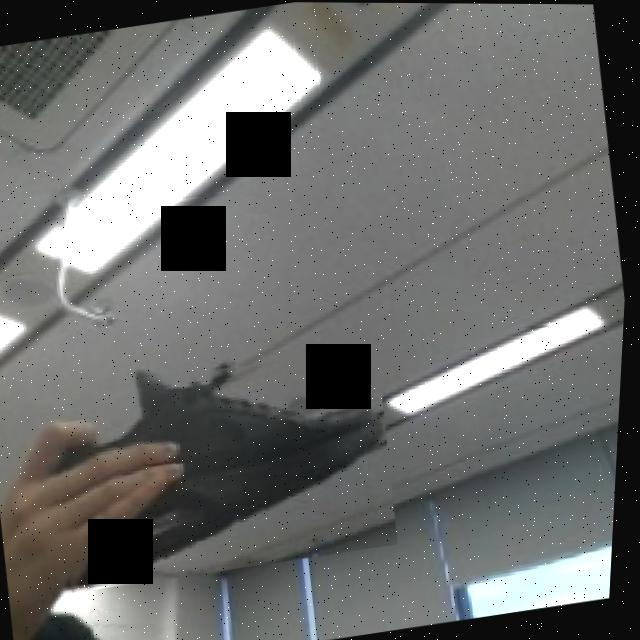shoe: (36, 336, 412, 597)
